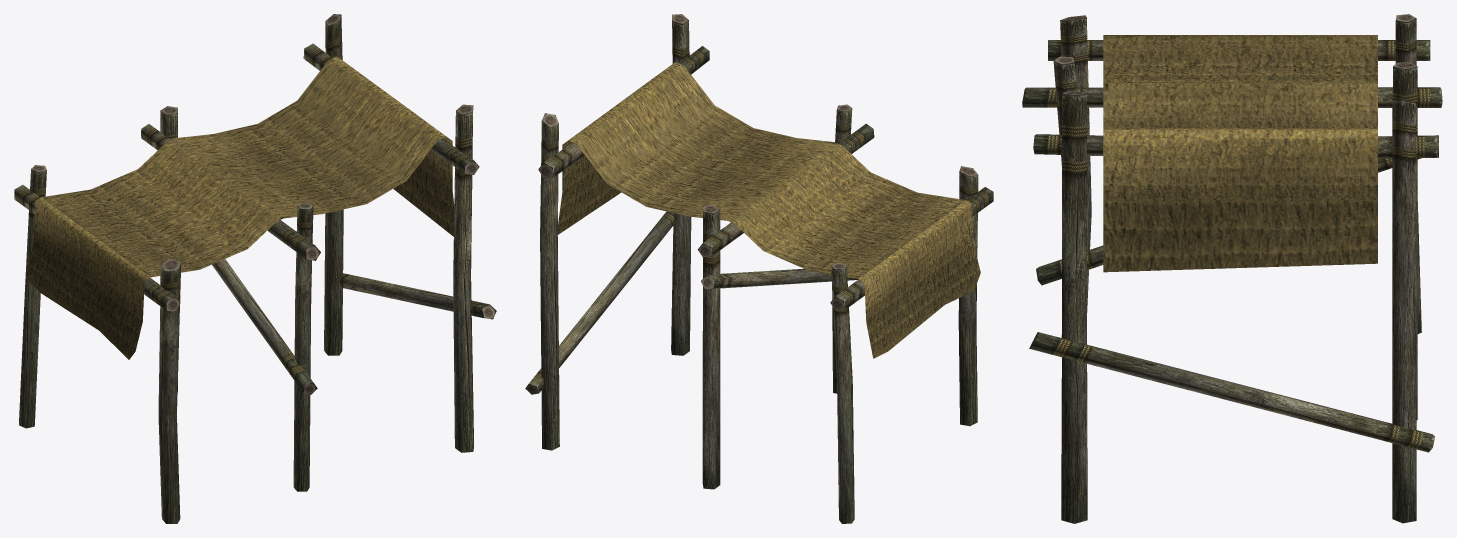
Rendered from thing_hake_00.fbx.
The picture shows the model from 3 angles, left to right: view 1: azimuth 30°, elevation 25°; view 2: azimuth 150°, elevation 25°; view 3: azimuth 270°, elevation 25°; orthographic projection. The views are drawn at different scales.
Parts seen in each view (by area): view 1: thing_hake_00; view 2: thing_hake_00; view 3: thing_hake_00.
Boxes of the visible parts, x1=… form: thing_hake_00: x1=14, y1=14, x2=496, y2=523; thing_hake_00: x1=525, y1=14, x2=993, y2=523; thing_hake_00: x1=1022, y1=14, x2=1442, y2=523.
Bounding box in the file's own units: 5.31 × 5.2 × 4.63.
